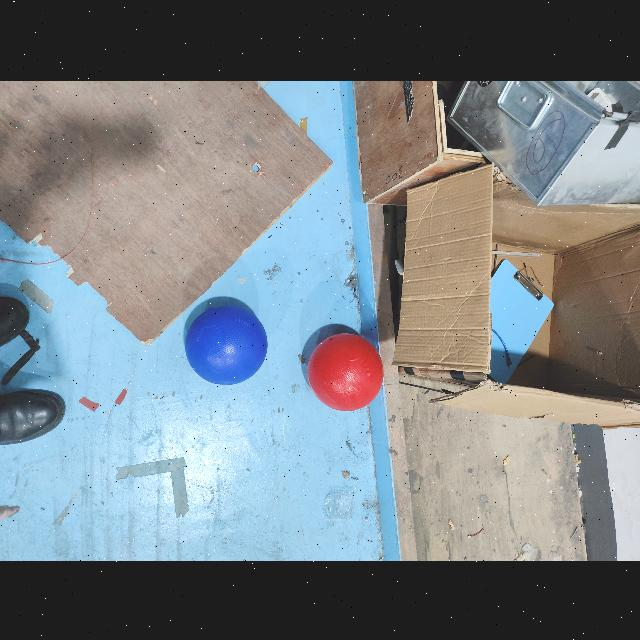B: (184, 305, 268, 385)
R: (308, 331, 384, 409)
